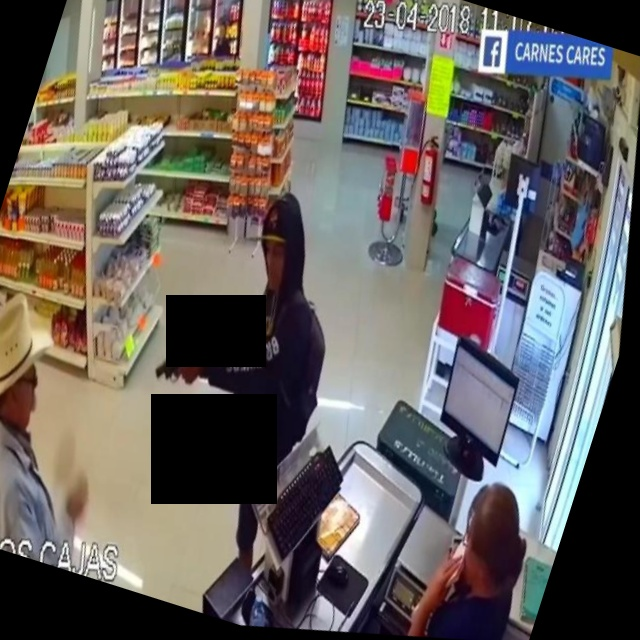gun: (130, 313, 216, 413)
